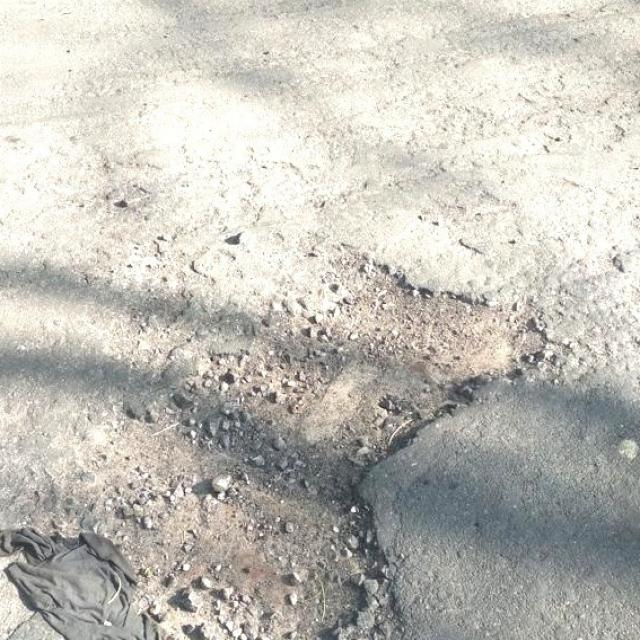road-pothole: (63, 237, 560, 634)
